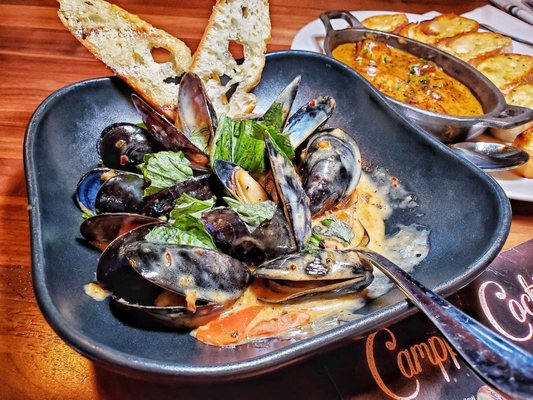salad: (345, 247, 533, 400)
sushi: (11, 0, 533, 394)
